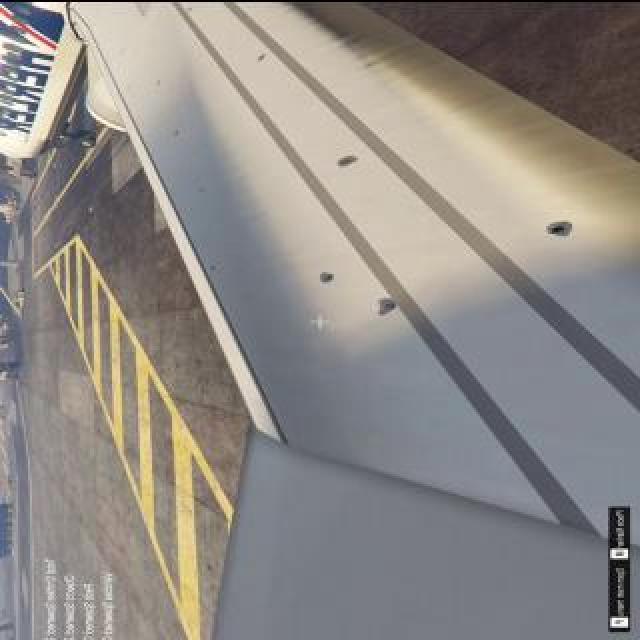crack: (542, 216, 586, 240), (374, 293, 402, 321), (333, 150, 365, 170), (315, 270, 337, 286), (255, 51, 271, 63), (168, 126, 184, 138), (205, 264, 221, 272), (196, 185, 208, 195)
